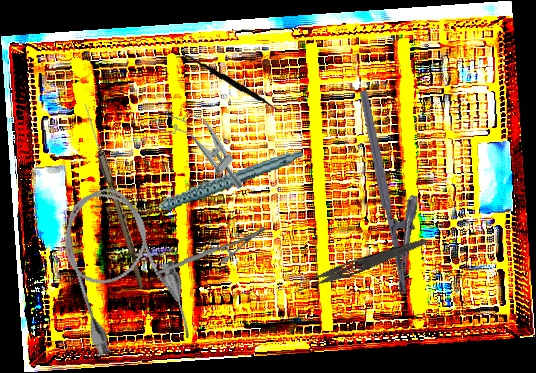Cannula: (46, 174, 200, 369)
Dressing Forceps: (290, 231, 429, 298)
Handpiece: (127, 149, 309, 217)
Needle Holder: (358, 84, 436, 296), (155, 226, 269, 274)
Spatula Surgical: (175, 50, 289, 117)
Speculum: (150, 94, 260, 197)
Surgical Spoon: (79, 101, 149, 290)
